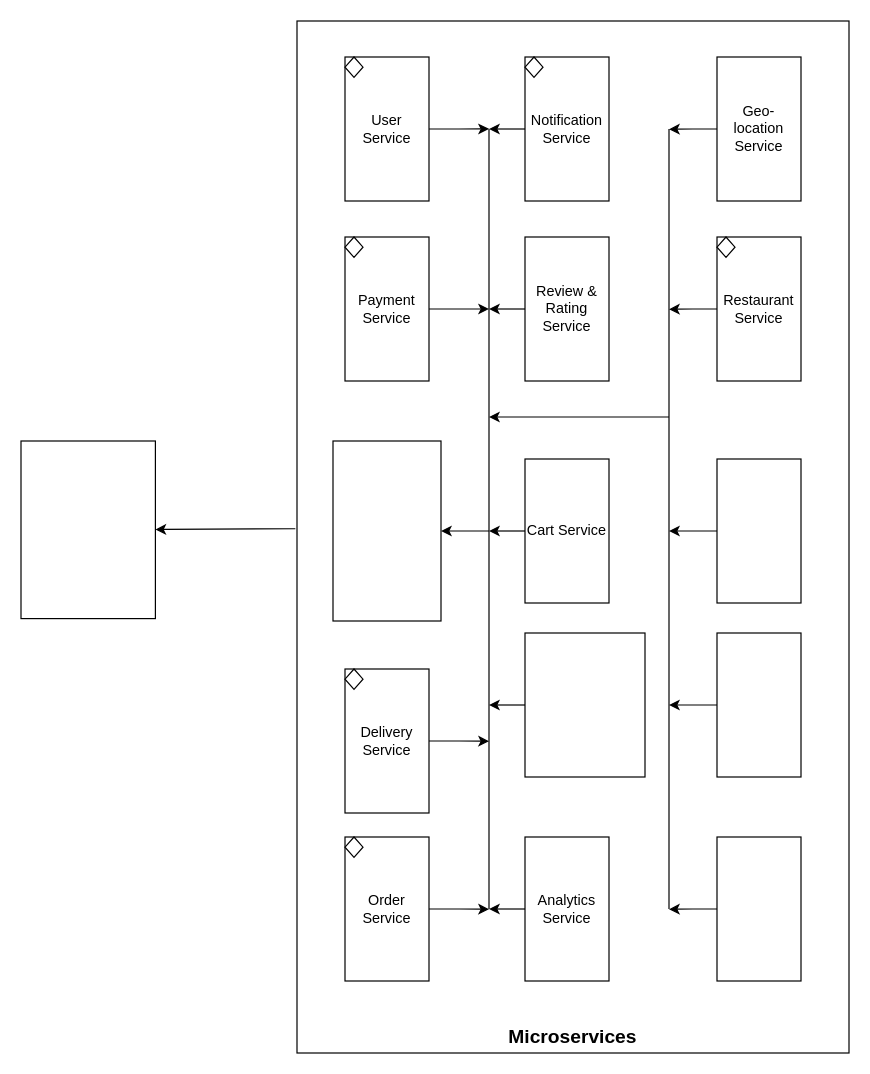
This 870x1074 diagram has some shape labels left out. Each missing label, with the centre of its shape:
"Integration Server (Admin Service)" goes at point 386,530.
"React Server" goes at point 87,529.
"Search & Recommendation Service" goes at point 584,704.
